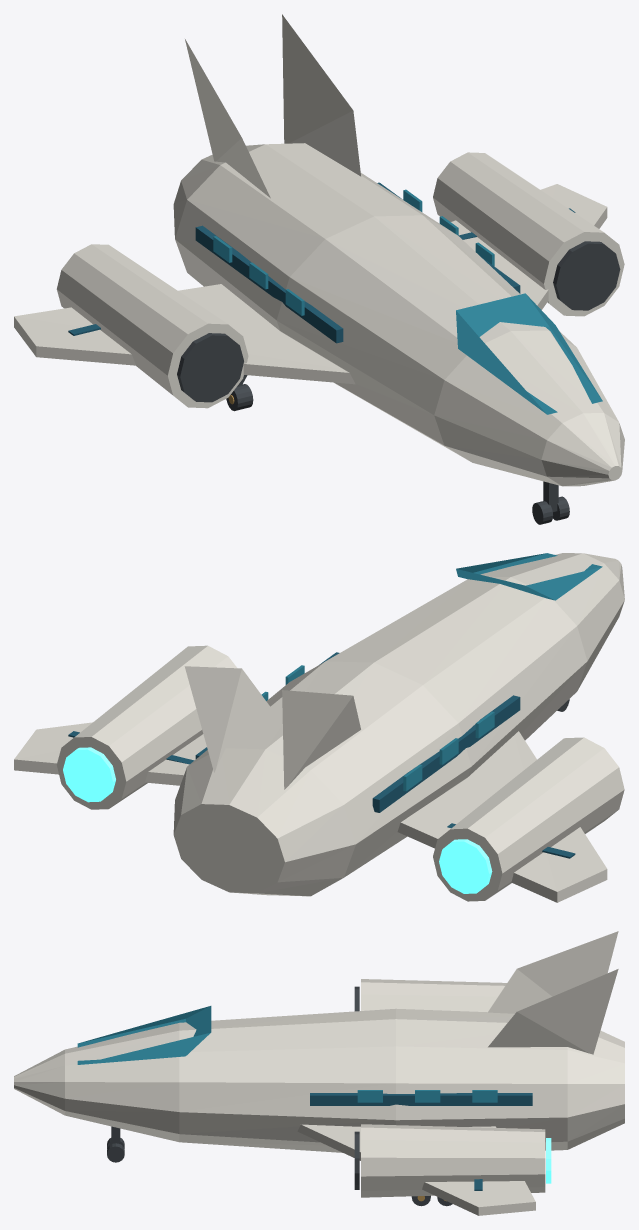
File: Transport.glb
The picture shows the model from 3 angles, top to bottom: view 1: azimuth 30°, elevation 25°; view 2: azimuth 150°, elevation 25°; view 3: azimuth 270°, elevation 25°; orthographic projection. The views are drawn at different scales.
Visible parts, largest first — view 1: GW Ivory, GW Metal, GW Glass Dark, GW Teal; view 2: GW Ivory, GW Light, GW Glass Dark, GW Teal; view 3: GW Ivory, GW Glass Dark, GW Teal, GW Metal.
Part boxes in pixels (left/top/right/bottom): GW Ivory: left=14, top=14, right=624, bottom=486; GW Metal: left=177, top=241, right=620, bottom=524; GW Glass Dark: left=213, top=189, right=602, bottom=414; GW Teal: left=68, top=182, right=575, bottom=343; GW Ivory: left=14, top=553, right=624, bottom=902; GW Light: left=63, top=747, right=492, bottom=893; GW Glass Dark: left=261, top=553, right=602, bottom=791; GW Teal: left=68, top=652, right=575, bottom=858; GW Ivory: left=14, top=931, right=624, bottom=1215; GW Glass Dark: left=77, top=1006, right=497, bottom=1102; GW Teal: left=310, top=1093, right=532, bottom=1190; GW Metal: left=107, top=986, right=452, bottom=1206.
Size of the model in its own units: 82 by 36 by 96.
